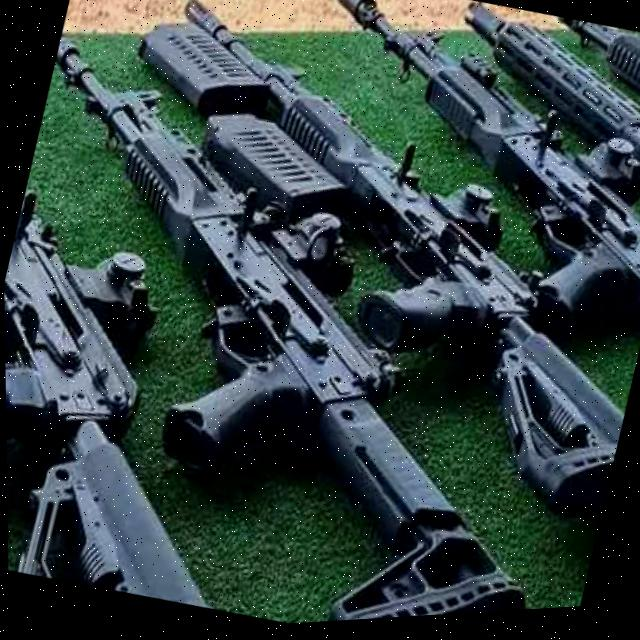firearm: (0, 0, 638, 640), (80, 0, 640, 551), (2, 162, 331, 627), (258, 0, 640, 368), (425, 0, 640, 224)
